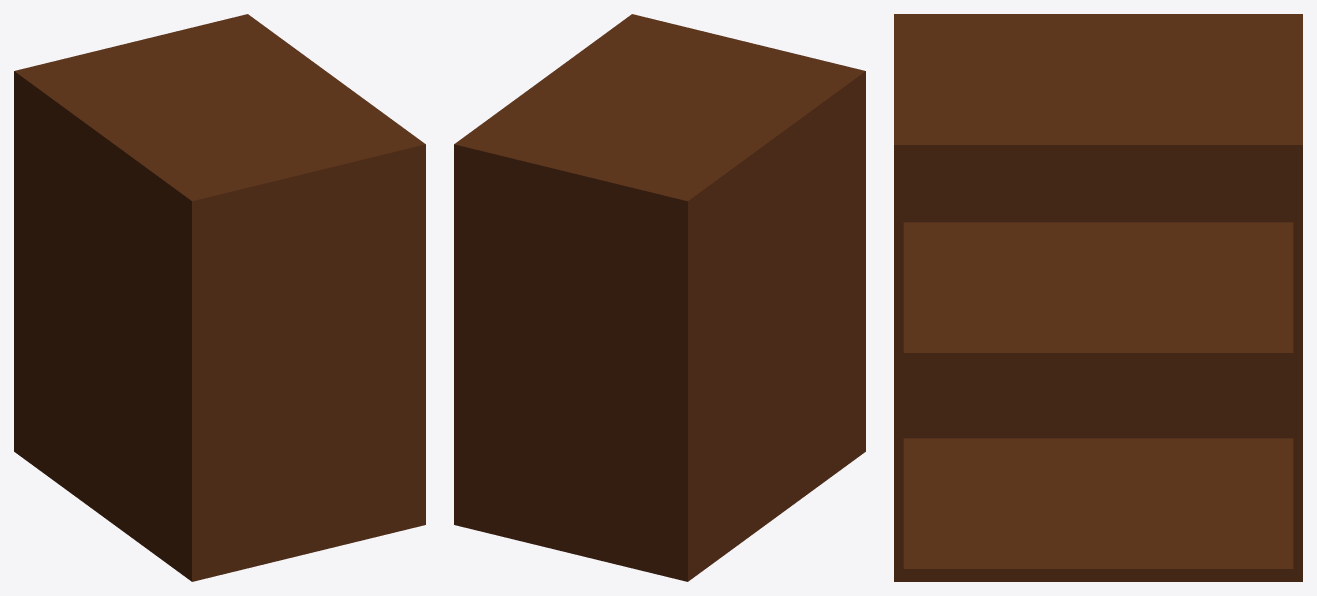
Rendered from bureau22.obj.
3 views of the same model, side by side, from view 1: azimuth 30°, elevation 25°; view 2: azimuth 150°, elevation 25°; view 3: azimuth 270°, elevation 25° (orthographic). The views are drawn at different scales.
Visible parts, largest first — view 1: Cubo.011_Cubo.014; view 2: Cubo.011_Cubo.014; view 3: Cubo.011_Cubo.014.
Boxes of the visible parts, box(x1,y1,x2,y2) form: Cubo.011_Cubo.014: box(14, 14, 425, 581); Cubo.011_Cubo.014: box(454, 14, 865, 581); Cubo.011_Cubo.014: box(894, 14, 1302, 581).
Size of the model in its own units: 16.5 by 25.69 by 21.77.
Materials: 1 (1 with a texture image).
